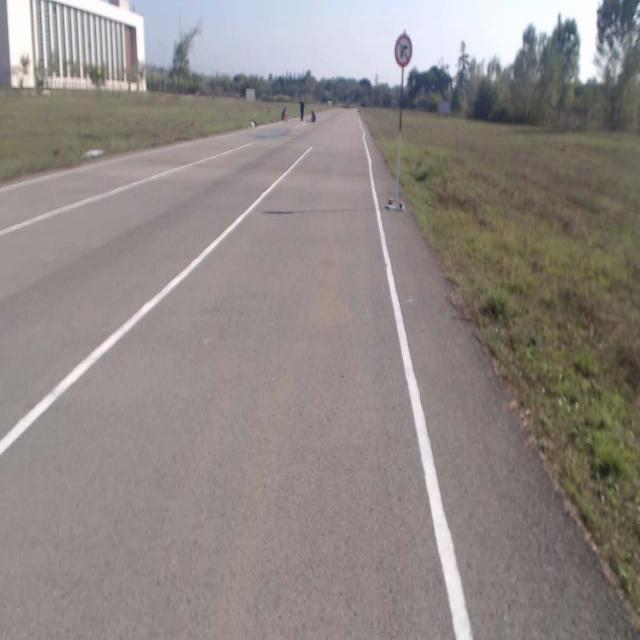sagadonulmez: (393, 34, 412, 65)
